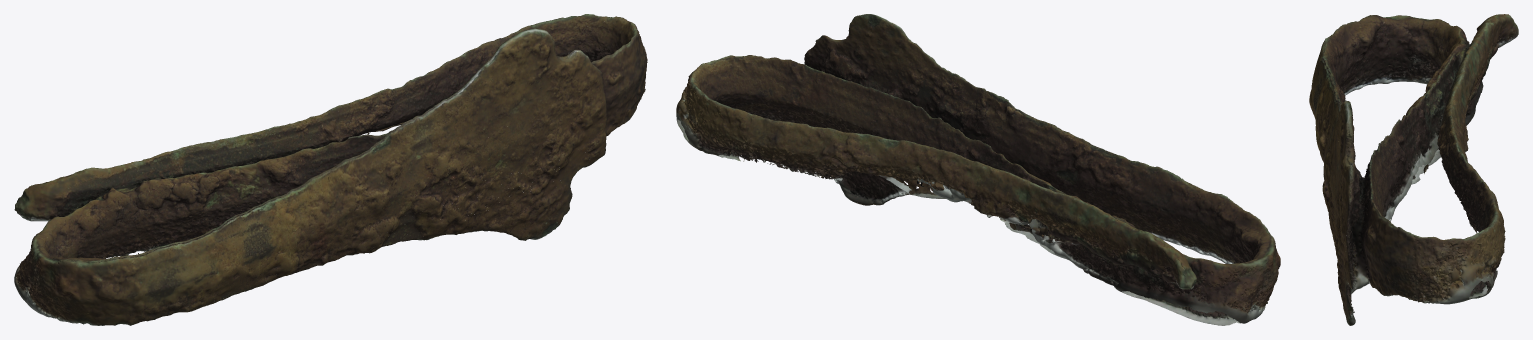
The model's file is bronze_age_bent_rapier.glb.
The picture shows the model from 3 angles, left to right: view 1: azimuth 30°, elevation 25°; view 2: azimuth 150°, elevation 25°; view 3: azimuth 270°, elevation 25°; orthographic projection. The views are drawn at different scales.
Parts seen in each view (by area): view 1: Object_3, Object_2, Object_4, Object_6, Object_5; view 2: Object_4, Object_3, Object_2, Object_6, Object_5; view 3: Object_5, Object_2, Object_4, Object_3, Object_6.
Part boxes in pixels (x1=…): Object_3: x1=98, y1=28, x2=569, y2=313; Object_2: x1=14, y1=167, x2=357, y2=325; Object_4: x1=256, y1=14, x2=627, y2=260; Object_6: x1=307, y1=57, x2=523, y2=248; Object_5: x1=138, y1=14, x2=647, y2=254; Object_4: x1=689, y1=14, x2=1080, y2=235; Object_3: x1=848, y1=14, x2=1223, y2=298; Object_2: x1=1011, y1=149, x2=1280, y2=325; Object_6: x1=823, y1=39, x2=1042, y2=217; Object_5: x1=676, y1=20, x2=1236, y2=317; Object_5: x1=1335, y1=65, x2=1505, y2=313; Object_2: x1=1309, y1=14, x2=1518, y2=150; Object_4: x1=1318, y1=87, x2=1504, y2=325; Object_3: x1=1310, y1=28, x2=1492, y2=325; Object_6: x1=1319, y1=98, x2=1476, y2=245.
Bounding box in the file's own units: 10.06 × 3.26 × 2.93.
Materials: 1 (1 with a texture image).
